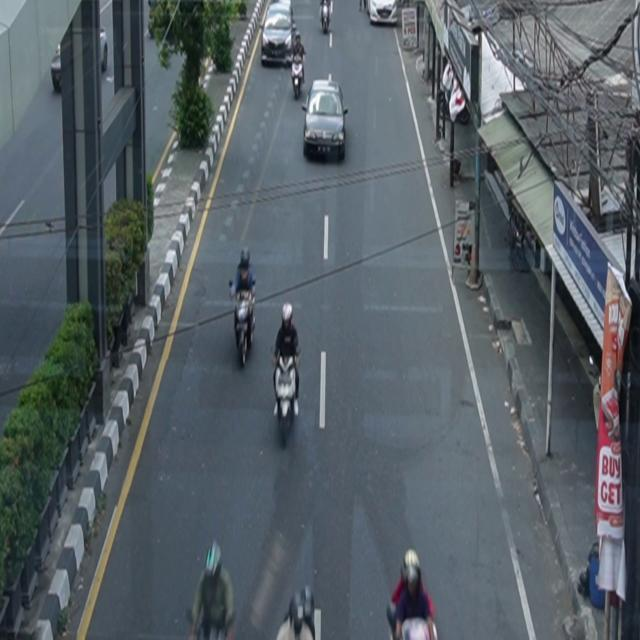car: (302, 76, 349, 162), (51, 27, 109, 94), (366, 1, 398, 26)
